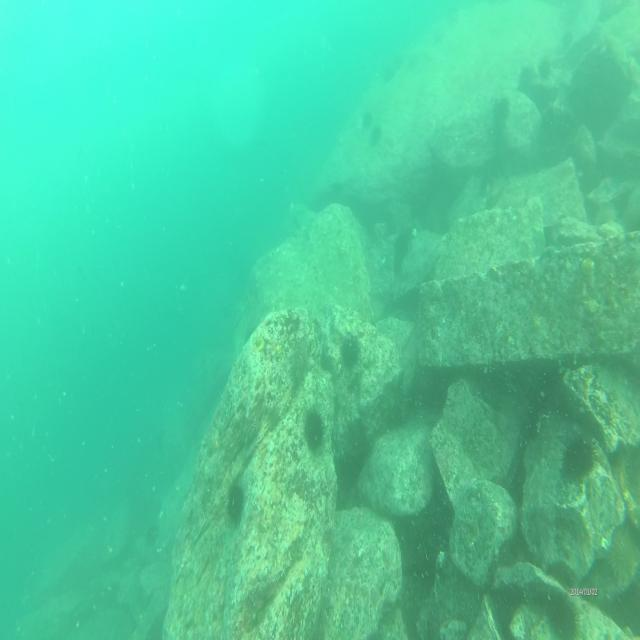echinus: (562, 432, 599, 484), (304, 406, 327, 460), (224, 480, 247, 529), (287, 337, 312, 382), (341, 333, 364, 376), (493, 91, 509, 131), (141, 522, 159, 550), (520, 61, 536, 91), (369, 125, 383, 151), (537, 52, 550, 78), (361, 110, 373, 132)
